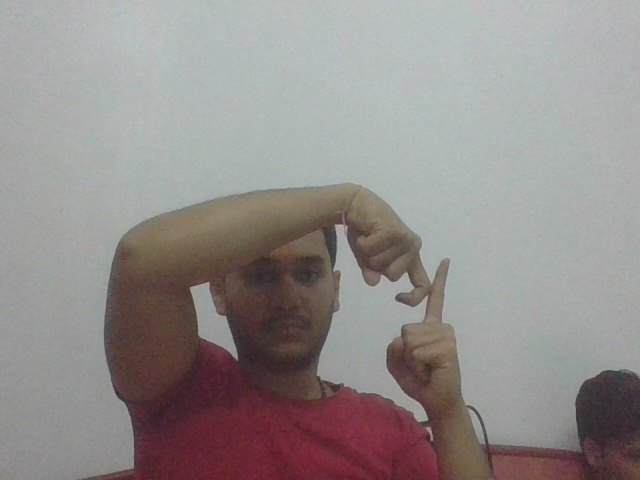K: (382, 240, 463, 337)
